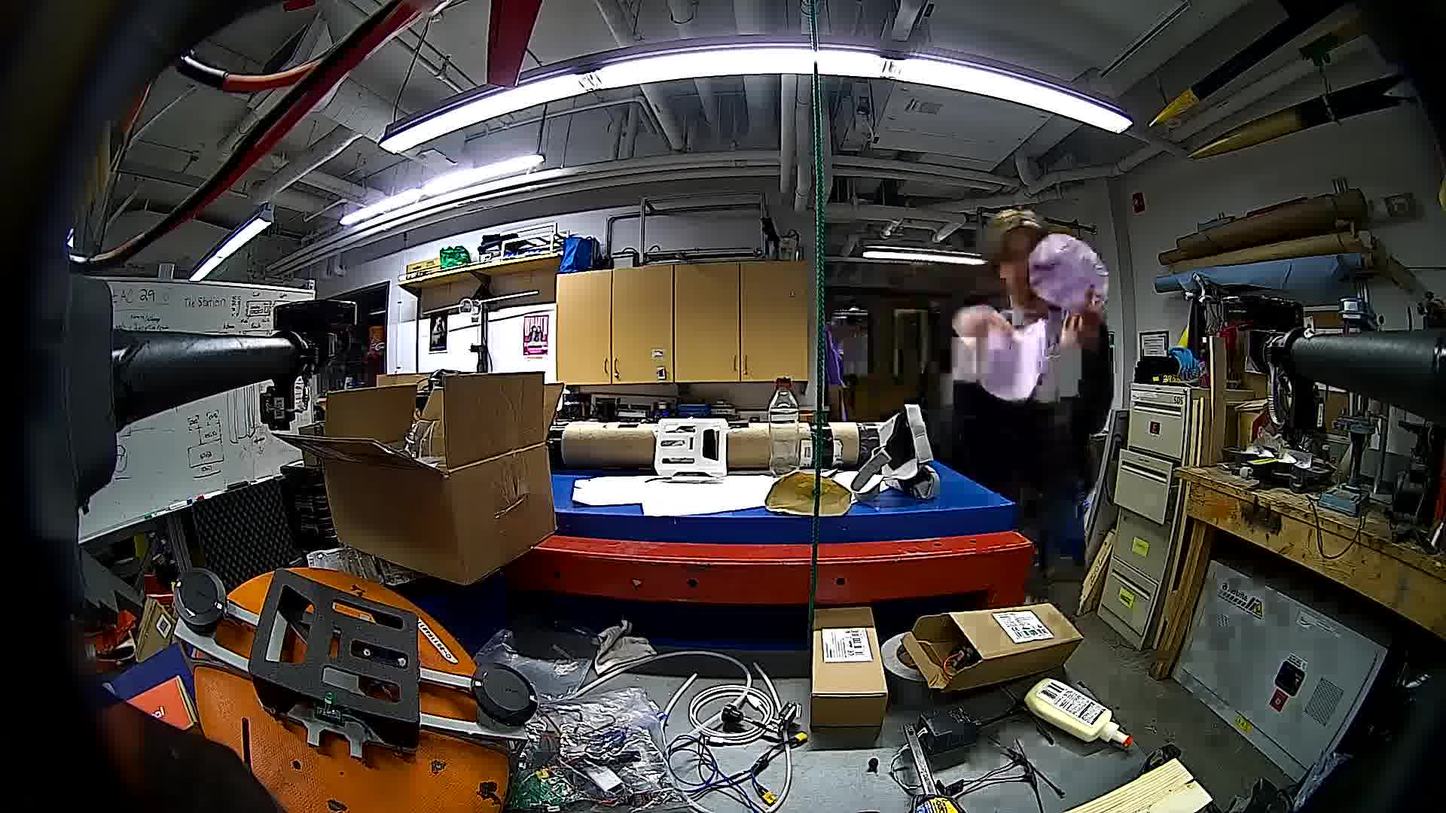Target: (948, 301, 1059, 405), (1030, 233, 1109, 312)
